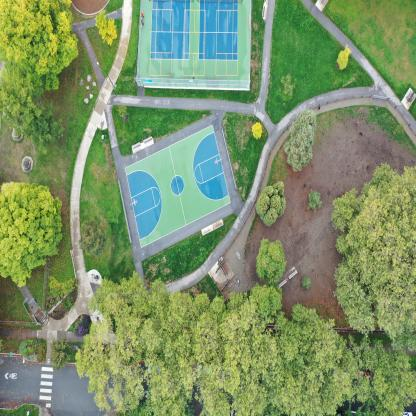Coniferous Tree: (24, 100, 66, 150), (284, 110, 314, 171), (256, 179, 288, 225), (78, 218, 108, 257), (50, 339, 69, 371), (308, 191, 322, 212), (300, 276, 312, 290), (117, 105, 127, 121)
Deciduous Tree: (338, 136, 416, 320), (205, 287, 276, 413), (86, 286, 154, 412), (146, 289, 211, 416), (0, 0, 80, 100), (282, 304, 350, 416), (0, 176, 62, 271), (357, 334, 416, 416), (256, 240, 286, 286), (93, 7, 118, 50), (337, 44, 351, 71), (254, 122, 262, 140)
